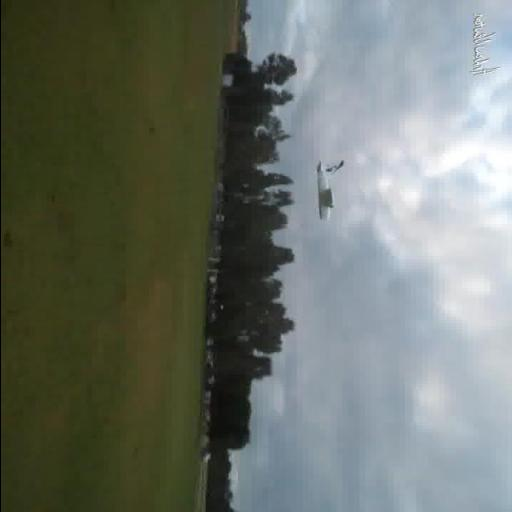uav: (288, 158, 354, 226)
